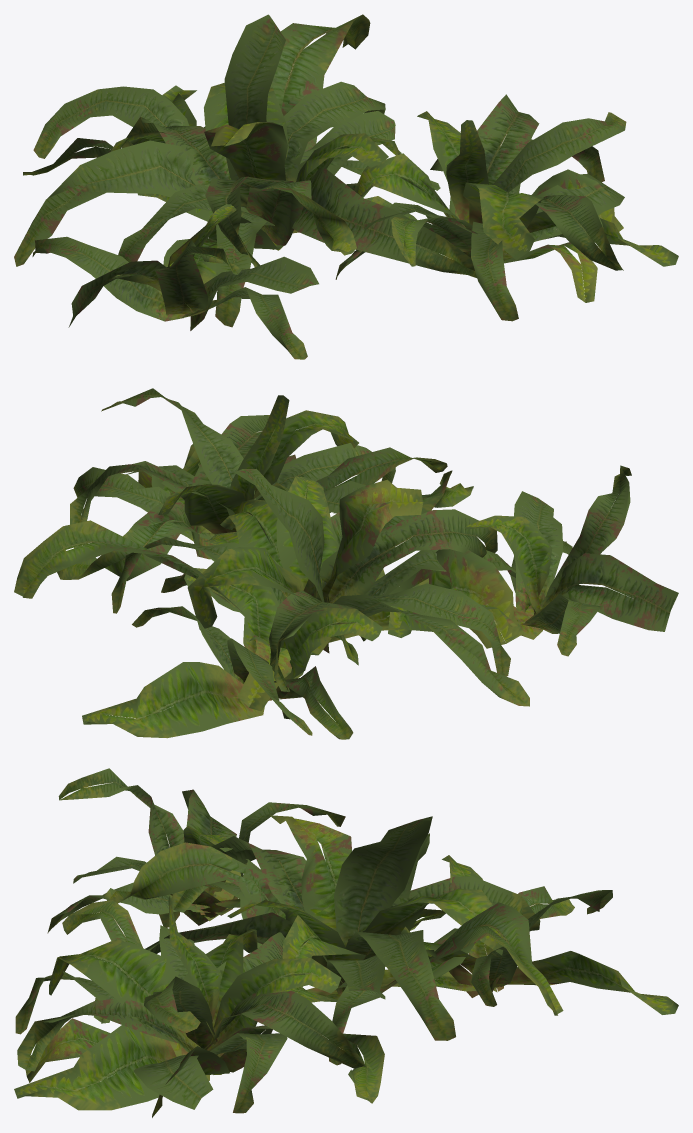
Rendered from fern_hero.glb.
The picture shows the model from 3 angles, top to bottom: view 1: azimuth 30°, elevation 25°; view 2: azimuth 150°, elevation 25°; view 3: azimuth 270°, elevation 25°; orthographic projection. The views are drawn at different scales.
Parts seen in each view (by area): view 1: fern_hero; view 2: fern_hero; view 3: fern_hero.
Boxes of the visible parts, x1,y1,x2,y2 form: fern_hero: (14, 14, 678, 359); fern_hero: (14, 388, 678, 739); fern_hero: (14, 768, 678, 1117).
Size of the model in its own units: 2.9 by 0.95 by 2.82.
1 material, 1 textured.
